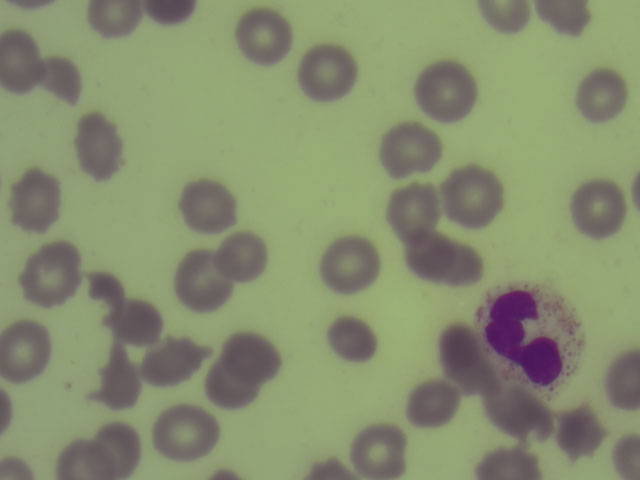RBC: (70, 110, 127, 180), (8, 167, 64, 231), (443, 168, 503, 223), (93, 348, 143, 410), (1, 319, 50, 380), (439, 322, 480, 389), (413, 237, 472, 283), (324, 313, 379, 362), (322, 238, 377, 287), (491, 390, 546, 439), (554, 409, 609, 458), (401, 380, 456, 429), (350, 426, 405, 475), (221, 329, 276, 378), (202, 360, 257, 409), (157, 406, 212, 455), (386, 184, 441, 233), (571, 182, 626, 231), (572, 71, 627, 120), (418, 66, 473, 115), (384, 125, 439, 174), (175, 255, 230, 304), (148, 337, 203, 386), (104, 298, 159, 347), (22, 253, 77, 302), (179, 185, 234, 234), (301, 49, 356, 98), (35, 54, 90, 103), (236, 14, 291, 63), (474, 445, 546, 480), (1, 29, 38, 94), (603, 346, 640, 410), (99, 426, 143, 477), (55, 443, 112, 480), (536, 1, 591, 34), (478, 1, 530, 33), (89, 1, 137, 32), (613, 430, 640, 480)
WBC: (479, 286, 584, 393)
